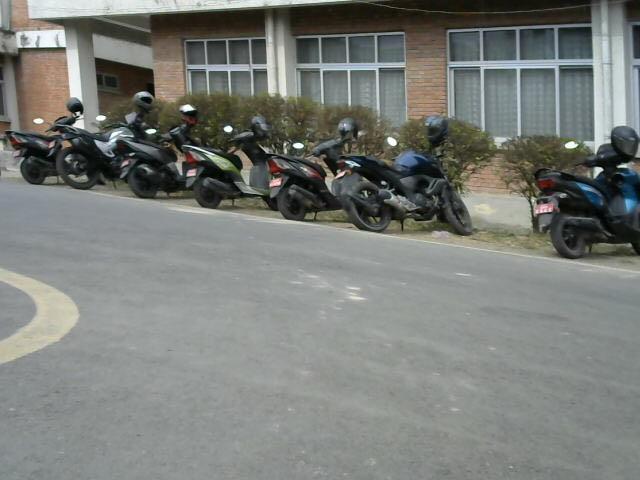Building: (29, 0, 640, 115)
Motorcycle: (0, 96, 640, 248)
Road: (1, 219, 640, 480)
